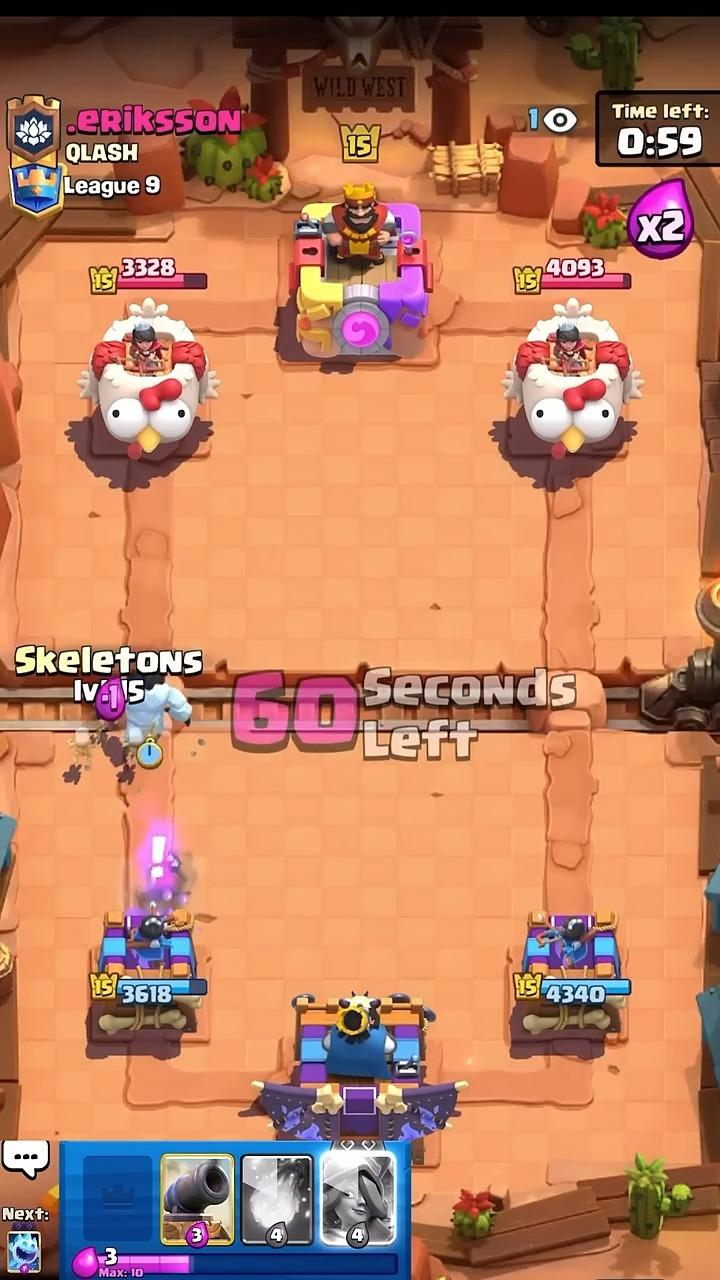ice golem: (125, 677, 191, 747)
